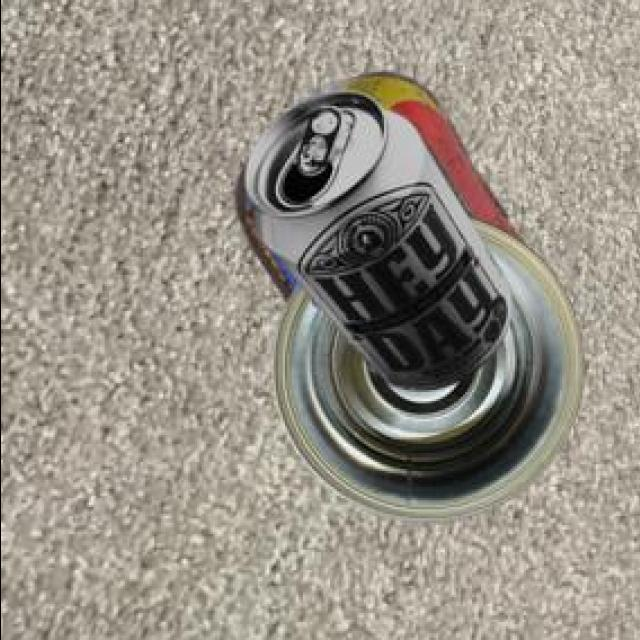logam: (276, 215, 587, 519), (249, 87, 515, 386), (238, 69, 514, 301)
